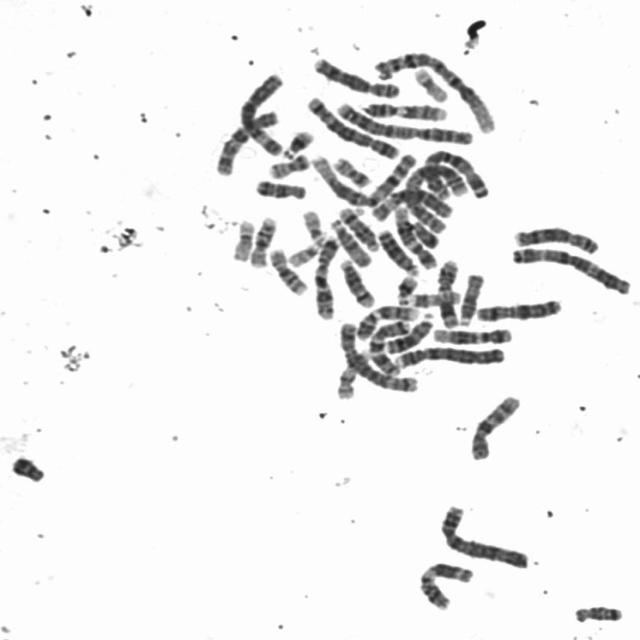A1: (370, 44, 501, 135), (307, 146, 422, 207)
A2: (329, 94, 478, 146), (403, 156, 476, 234)
A3: (506, 239, 637, 296), (419, 142, 494, 201)
B4: (436, 498, 534, 570), (390, 340, 510, 370)
B5: (302, 89, 405, 160), (334, 314, 424, 394)
C10: (211, 104, 283, 177), (466, 388, 526, 462)
C11: (414, 554, 479, 612), (434, 253, 464, 328)
C12: (388, 201, 442, 270), (428, 321, 517, 346)
C6: (234, 66, 289, 157), (366, 182, 458, 225)
C7: (310, 230, 344, 321), (364, 314, 412, 378)
C8: (309, 50, 405, 99), (510, 219, 604, 255)
C9: (352, 298, 423, 340), (355, 95, 452, 122)
D13: (379, 307, 438, 354), (373, 223, 423, 277)
D14: (333, 201, 382, 252), (335, 253, 379, 309)
D15: (326, 213, 376, 270), (455, 267, 488, 327)
E16: (264, 240, 312, 296), (246, 210, 281, 269)
E17: (332, 346, 373, 401), (403, 285, 467, 308)
E18: (252, 172, 310, 201), (570, 599, 627, 624)
F19: (409, 60, 453, 104), (227, 212, 259, 263)
F20: (328, 150, 375, 189), (265, 146, 314, 180)
G21: (278, 122, 318, 160), (392, 268, 422, 306)
G22: (285, 236, 325, 268), (298, 202, 329, 243)
X: (472, 292, 566, 323)
Y: (7, 449, 50, 484)
